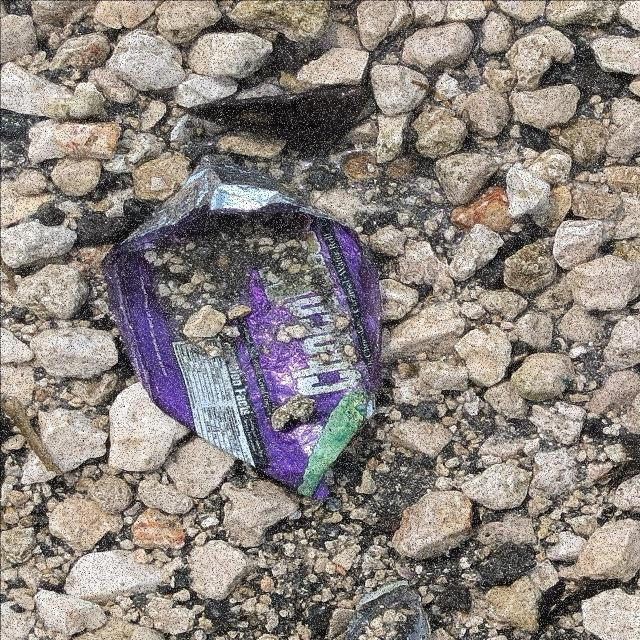plastic_waste: (99, 154, 385, 505)
